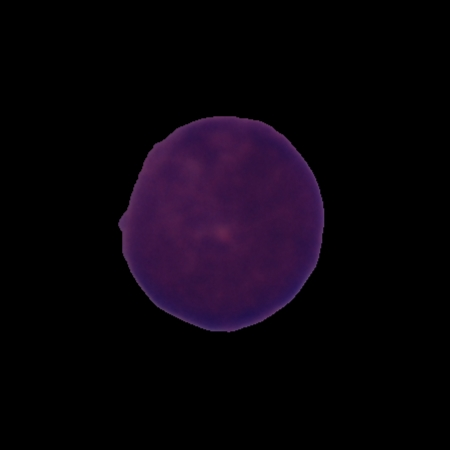ALL: (113, 111, 329, 337)
